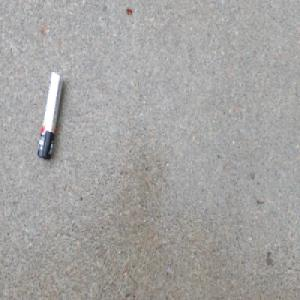Battery: (37, 70, 66, 162)
